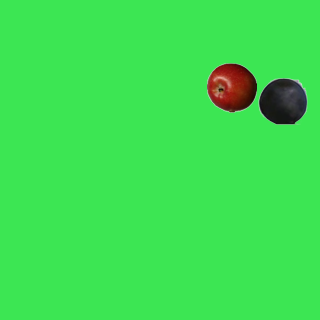Apple Braeburn: (206, 62, 256, 112)
Grape Blue: (257, 75, 307, 125)
